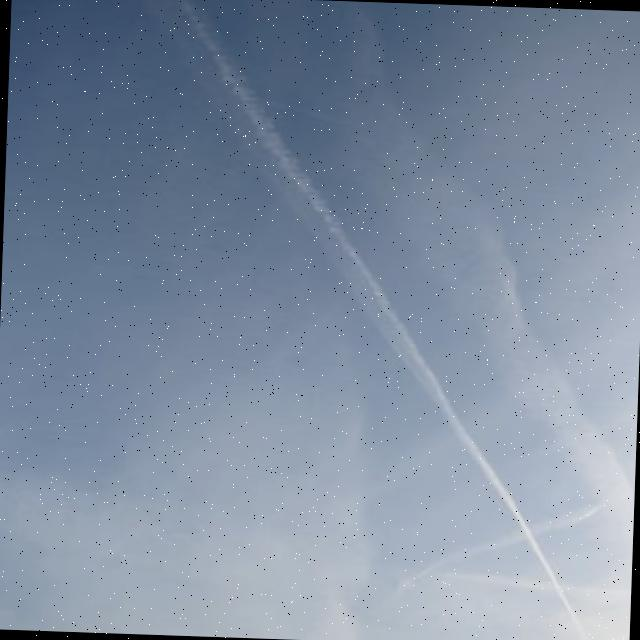Ct: (1, 31, 640, 615)
